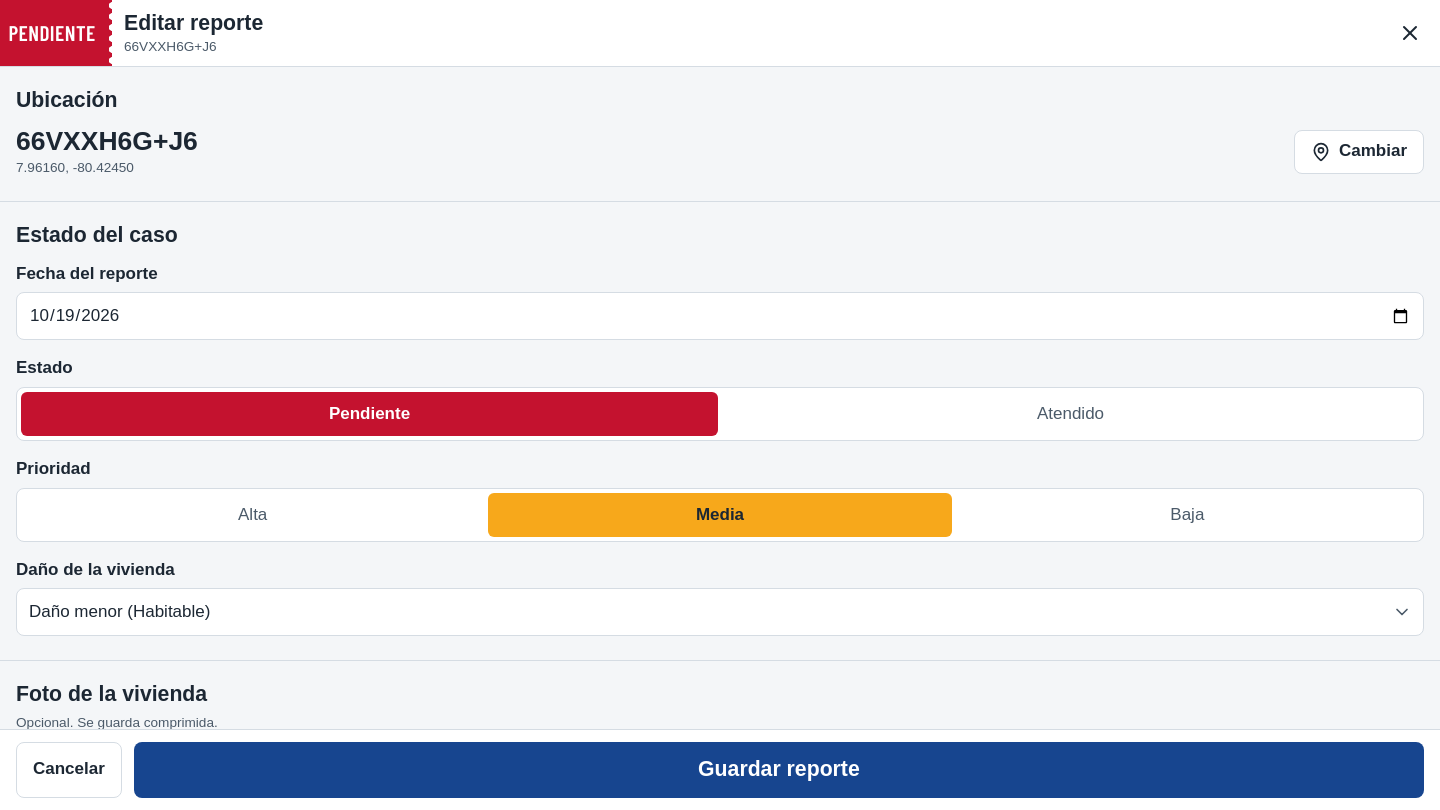
Test: ReportForm: edición › cambio del formulario
What coordinates should you click on to do the following:
click the radio button labelled "Baja"
I would click on:
 (1187, 514)
Its box is [1170, 505, 1204, 524].
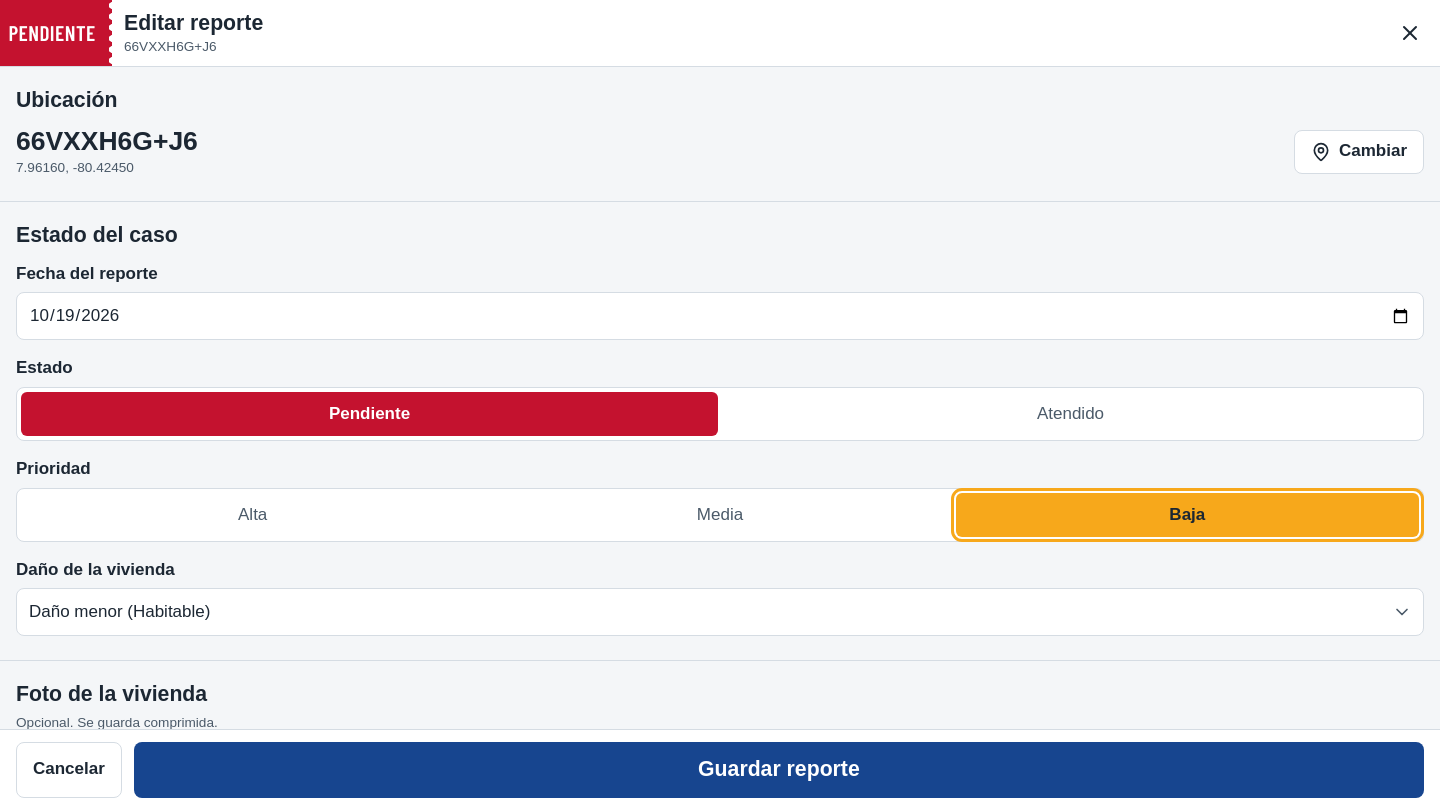
What coordinates should you click on to do the following:
click the button "Guardar reporte"
I would click on:
 (779, 770)
Its box is [134, 742, 1424, 798].
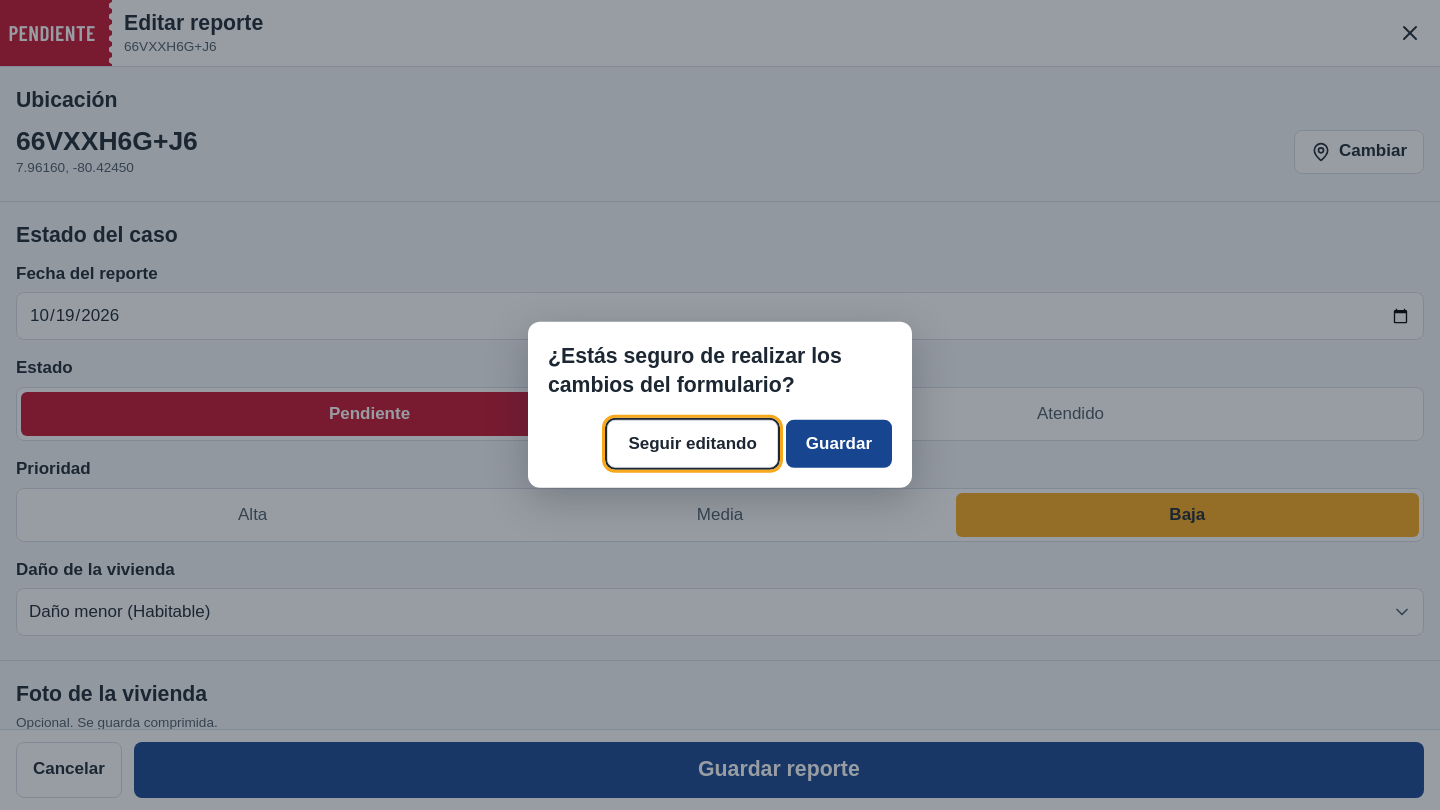
Expected: the dialog shows "¿Estás seguro de realizar los cambios del formulario?", [548, 344, 842, 397]
